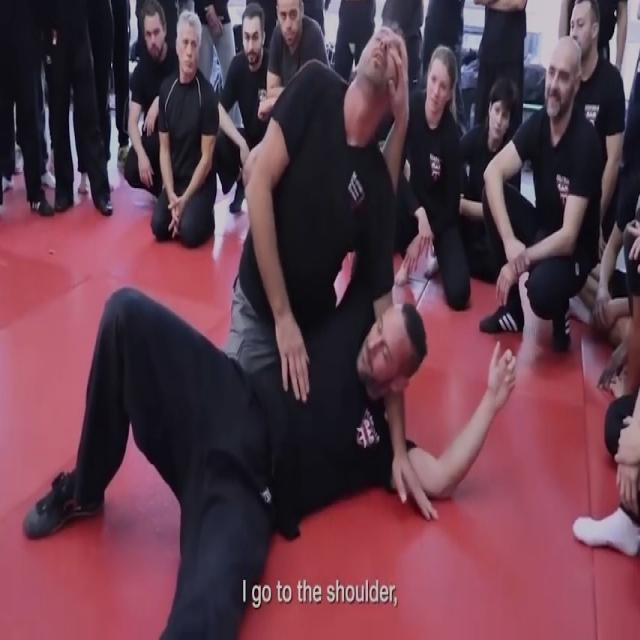fight: (24, 17, 529, 640)
